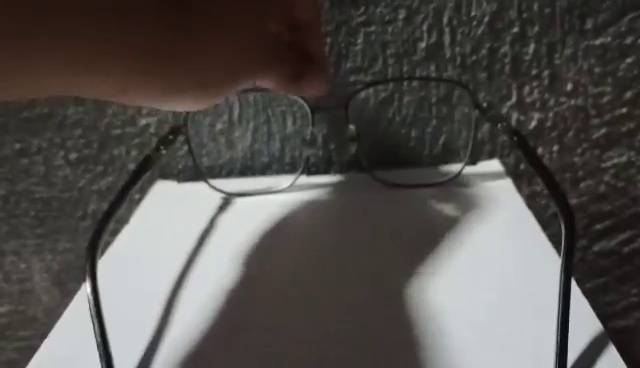glasses: (88, 83, 580, 368)
